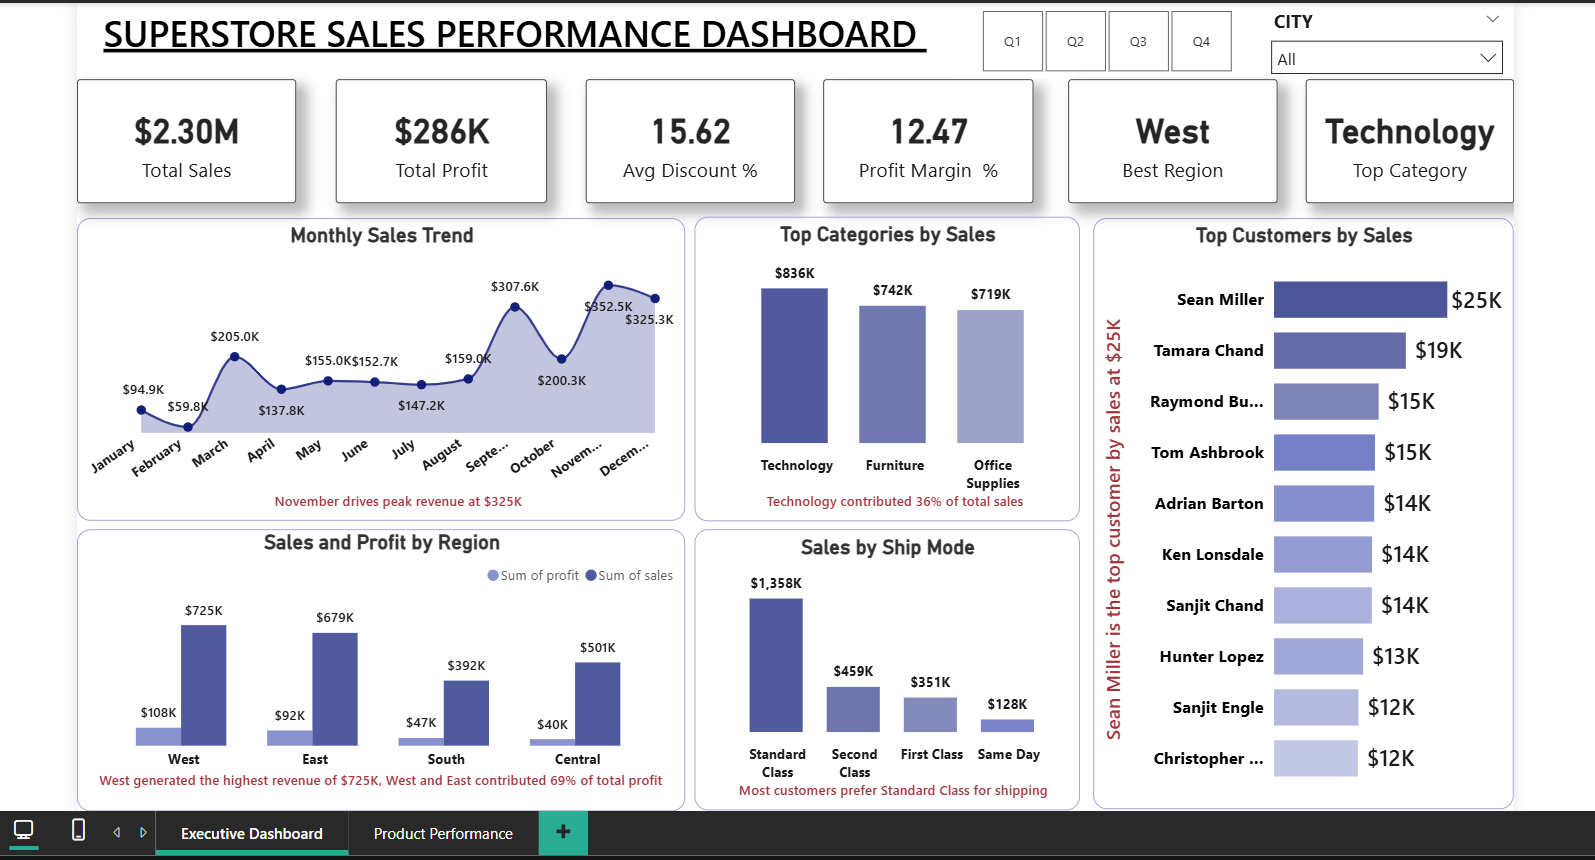

The page's visual inventory and layout, read from the dashboard file:
{"tool":"powerbi","page":{"name":" Executive Dashboard","canvas":[1280,720],"ordinal":0},"visuals":[{"type":"areaChart","title":"Monthly Sales Trend","fields":{"Category":["e-commerce_python2.Month"],"Y":["Sum(e-commerce_python2.sales)"]},"box":[0,191.9,541.9,269.8],"z":0},{"type":"card","fields":{"Values":["e-commerce_python2.Avg Discount %"]},"box":[453.5,67.4,186,110.5],"z":1000},{"type":"card","fields":{"Values":["Sum(e-commerce_python2.sales)"]},"box":[0,67.5,195.1,110.4],"z":2000},{"type":"card","fields":{"Values":["e-commerce_python2.Profit Margin %"]},"box":[665.1,67.4,187.2,110.5],"z":3000},{"type":"card","fields":{"Values":["Sum(e-commerce_python2.profit)"]},"box":[230.2,67.4,188.4,110.5],"z":4000},{"type":"clusteredColumnChart","title":"Sales and Profit by Region","fields":{"Category":["e-commerce_python2.region"],"Y":["Sum(e-commerce_python2.profit)","Sum(e-commerce_python2.sales)"]},"box":[0,468.6,541.9,251.2],"z":5000},{"type":"textbox","box":[0,0,780.2,67.4],"z":6000},{"type":"clusteredBarChart","title":"Top Customers by Sales","fields":{"Y":["Sum(e-commerce_python2.sales)"],"Category":["e-commerce_python2.customer_name"]},"box":[904.7,191.9,374.4,526.7],"z":8000},{"type":"clusteredColumnChart","title":"Top Categories by Sales","fields":{"Category":["e-commerce_python2.category"],"Y":["Sum(e-commerce_python2.sales)"]},"box":[550,190.7,343,270.9],"z":9000},{"type":"slicer","fields":{"Values":["e-commerce_python2.Quarter"]},"box":[780.2,0,272.1,67.4],"z":10000},{"type":"slicer","fields":{"Values":["e-commerce_python2.city"]},"box":[1052.8,0,227,67.5],"z":11000},{"type":"clusteredColumnChart","title":"Sales  by Ship Mode","fields":{"Category":["e-commerce_python2.ship_mode"],"Y":["Sum(e-commerce_python2.sales)"]},"box":[550,468.6,343,250],"z":13000},{"type":"card","fields":{"Values":["e-commerce_python2.Best Region"]},"box":[882.6,67.4,186,110.5],"z":14000},{"type":"card","fields":{"Values":["e-commerce_python2.Top Category"]},"box":[1094.5,67.5,185.3,110.4],"z":15000}]}

Visuals, with their boxes on the page's 1280x720 design canvas (x1, y1, x2, y2). These are canvas units, not pixel positions in the 1595x860 screenshot, which may show the page scaled, cropped or inside an application window:
"Monthly Sales Trend" areaChart: <region>0, 192, 542, 462</region>
card - e-commerce_python2.Avg Discount %: <region>454, 67, 640, 178</region>
card - Sum(e-commerce_python2.sales): <region>0, 68, 195, 178</region>
card - e-commerce_python2.Profit Margin %: <region>665, 67, 852, 178</region>
card - Sum(e-commerce_python2.profit): <region>230, 67, 419, 178</region>
"Sales and Profit by Region" clusteredColumnChart: <region>0, 469, 542, 720</region>
textbox: <region>0, 0, 780, 67</region>
"Top Customers by Sales" clusteredBarChart: <region>905, 192, 1279, 719</region>
"Top Categories by Sales" clusteredColumnChart: <region>550, 191, 893, 462</region>
slicer - e-commerce_python2.Quarter: <region>780, 0, 1052, 67</region>
slicer - e-commerce_python2.city: <region>1053, 0, 1280, 68</region>
"Sales  by Ship Mode" clusteredColumnChart: <region>550, 469, 893, 719</region>
card - e-commerce_python2.Best Region: <region>883, 67, 1069, 178</region>
card - e-commerce_python2.Top Category: <region>1094, 68, 1280, 178</region>
